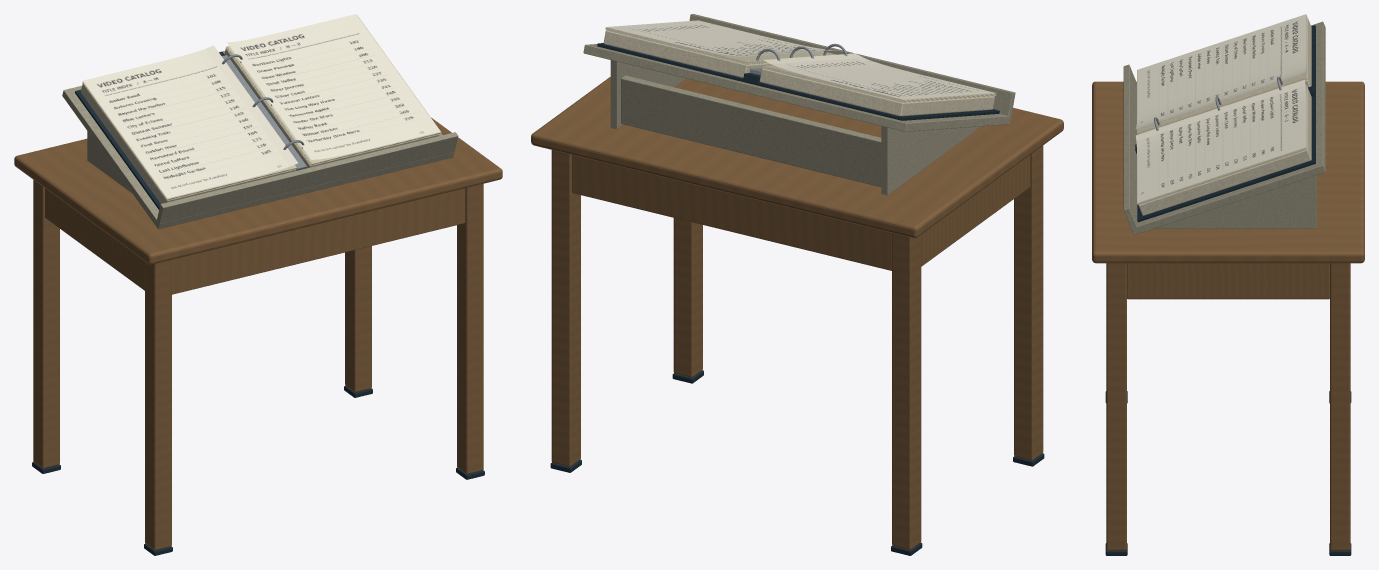
The model's file is catalog-podium.glb.
3 renders of one model, left to right at view 1: azimuth 30°, elevation 25°; view 2: azimuth 150°, elevation 25°; view 3: azimuth 270°, elevation 25°, orthographic. The views are drawn at different scales.
Parts seen in each view (by area): view 1: PaperCatalogPodium; view 2: PaperCatalogPodium; view 3: PaperCatalogPodium.
Part boxes in pixels (box(x1,y1,x2,y2)): PaperCatalogPodium: box(14, 14, 502, 555); PaperCatalogPodium: box(531, 14, 1063, 555); PaperCatalogPodium: box(1092, 14, 1364, 555).
Size of the model in its own units: 3 by 3.23 by 2.
Materials: 6 (6 with a texture image).
